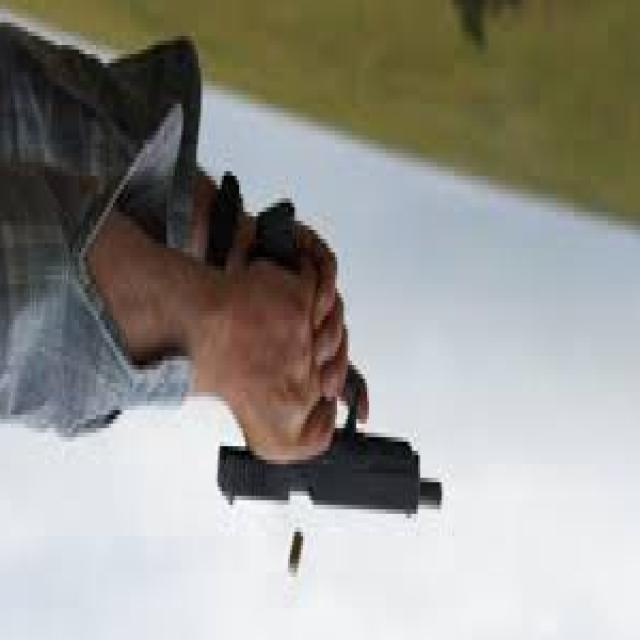gun: (210, 170, 453, 586)
